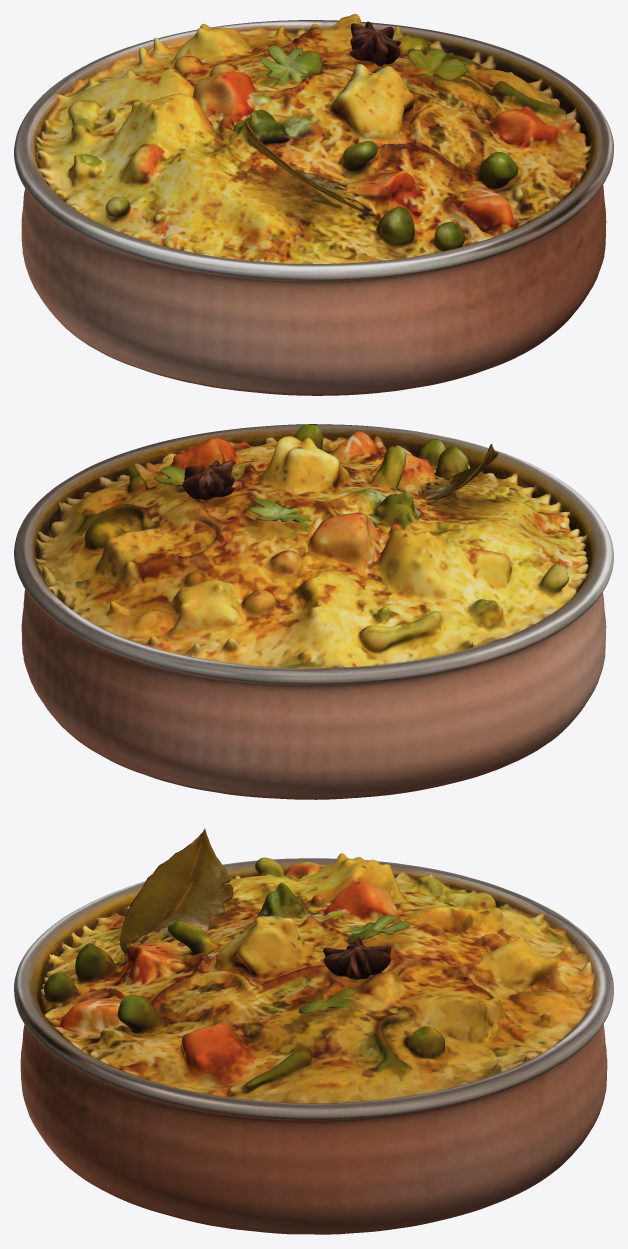
Rendered from veg-biryani.glb.
3 renders of one model, top to bottom at view 1: azimuth 30°, elevation 25°; view 2: azimuth 150°, elevation 25°; view 3: azimuth 270°, elevation 25°, orthographic.
Visible parts, largest first — view 1: tripo_node_e57c0f49; view 2: tripo_node_e57c0f49; view 3: tripo_node_e57c0f49.
Boxes of the visible parts, x1,y1,x2,y2 form: tripo_node_e57c0f49: (14, 14, 613, 395); tripo_node_e57c0f49: (14, 424, 613, 799); tripo_node_e57c0f49: (14, 829, 613, 1234).
Size of the model in its own units: 0.24 by 0.1031 by 0.2395.
Materials: 1 (1 with a texture image).
